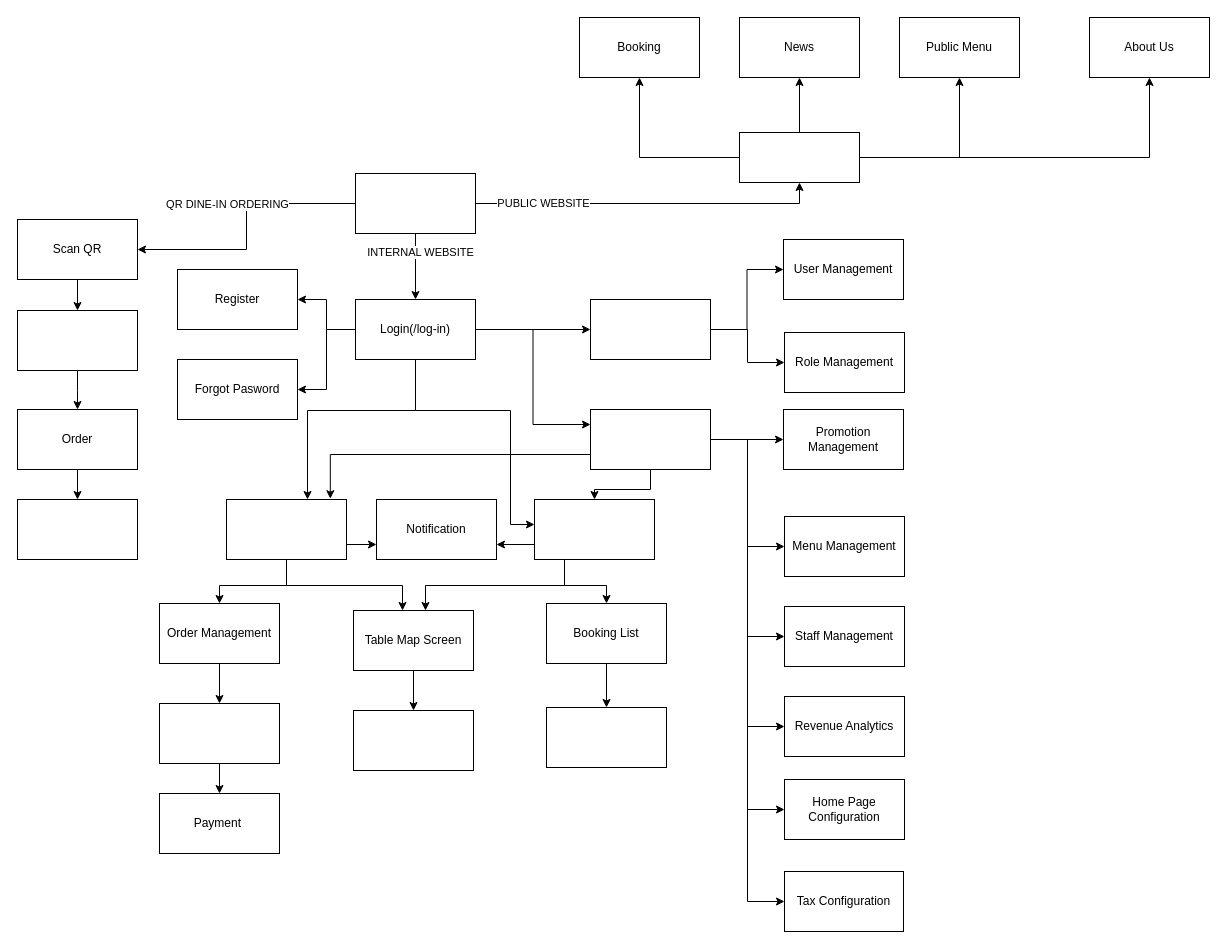
This 1227x949 diagram has some shape labels left out. Each missing label, with the centre of its shape:
"Admin Dashboard" goes at (650,329).
"Casher Dashboard" goes at (286,529).
"Confirm booking" goes at (606,737).
"Food Menu" goes at (77,340).
"HomePage" goes at (799,157).
"Manager Dashboard" goes at (650,439).
"Order Details" goes at (219,733).
"RESTAURANR SYSTEM" goes at (415,203).
"Update Table" goes at (413,740).
"Waiter Dashboard" goes at (594,529).
"Yêu cầu thanh toán" goes at (77,529).
